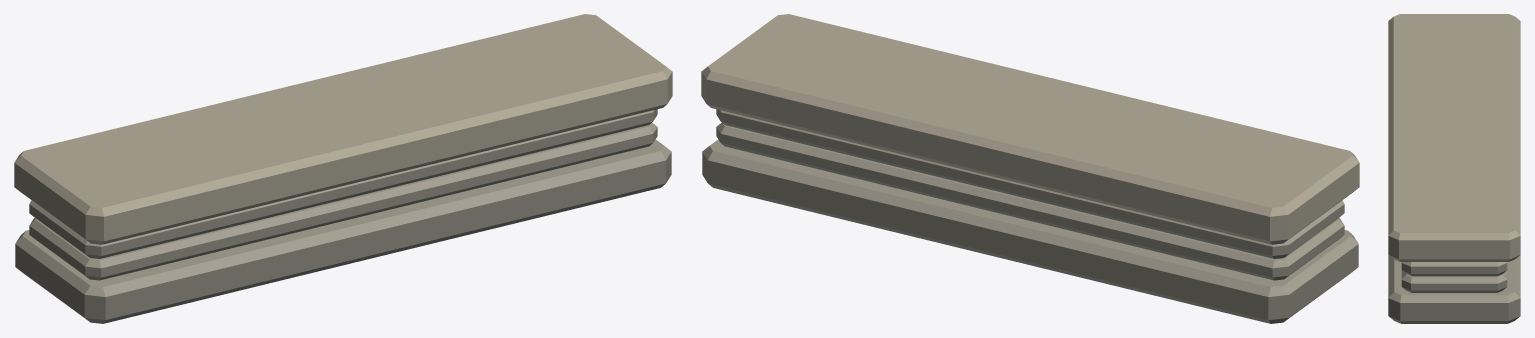
The model's file is wall-low.glb.
3 renders of one model, left to right at view 1: azimuth 30°, elevation 25°; view 2: azimuth 150°, elevation 25°; view 3: azimuth 270°, elevation 25°, orthographic. The views are drawn at different scales.
Parts seen in each view (by area): view 1: wall-low; view 2: wall-low; view 3: wall-low.
Boxes of the visible parts, x1,y1,x2,y2 form: wall-low: (14,14,672,323); wall-low: (701,14,1359,323); wall-low: (1388,14,1520,323).
Size of the model in its own units: 2 by 0.38 by 0.5.
